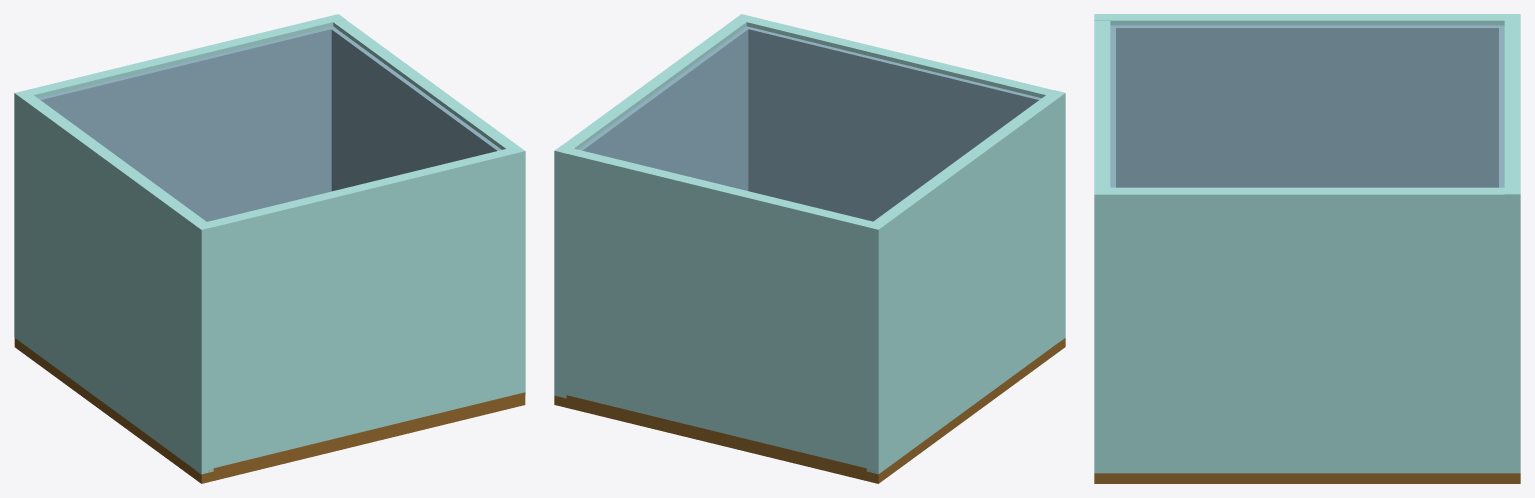
Rendered from Furn1_wall_floor_color3_joined.fbx.
3 renders of one model, left to right at view 1: azimuth 30°, elevation 25°; view 2: azimuth 150°, elevation 25°; view 3: azimuth 270°, elevation 25°, orthographic. The views are drawn at different scales.
Parts seen in each view (by area): view 1: Куб.085, Куб.082, Куб.078; view 2: Куб.082, Куб.085, Куб.078; view 3: Куб.085, Куб.082, Куб.078.
Boxes of the visible parts, x1=… form: Куб.085: x1=194, y1=19, x2=525, y2=474; Куб.082: x1=14, y1=14, x2=345, y2=474; Куб.078: x1=14, y1=338, x2=525, y2=483; Куб.082: x1=554, y1=90, x2=1065, y2=474; Куб.085: x1=554, y1=14, x2=1065, y2=398; Куб.078: x1=554, y1=338, x2=1065, y2=483; Куб.085: x1=1094, y1=21, x2=1520, y2=473; Куб.082: x1=1094, y1=14, x2=1520, y2=472; Куб.078: x1=1094, y1=473, x2=1520, y2=483.
Bounding box in the file's own units: 911 × 682 × 910.
